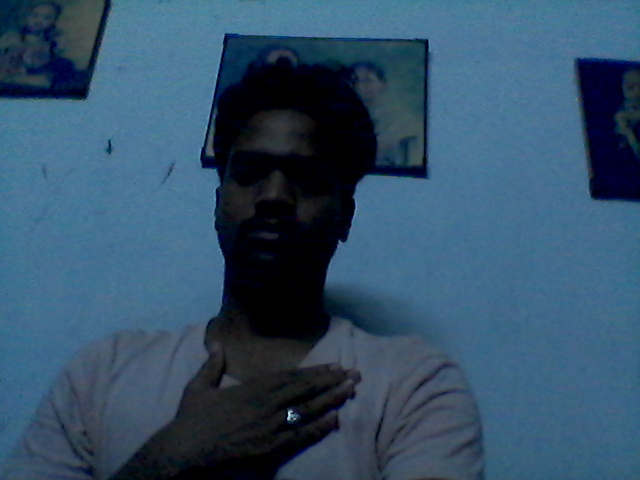Fine: (138, 335, 371, 480)
